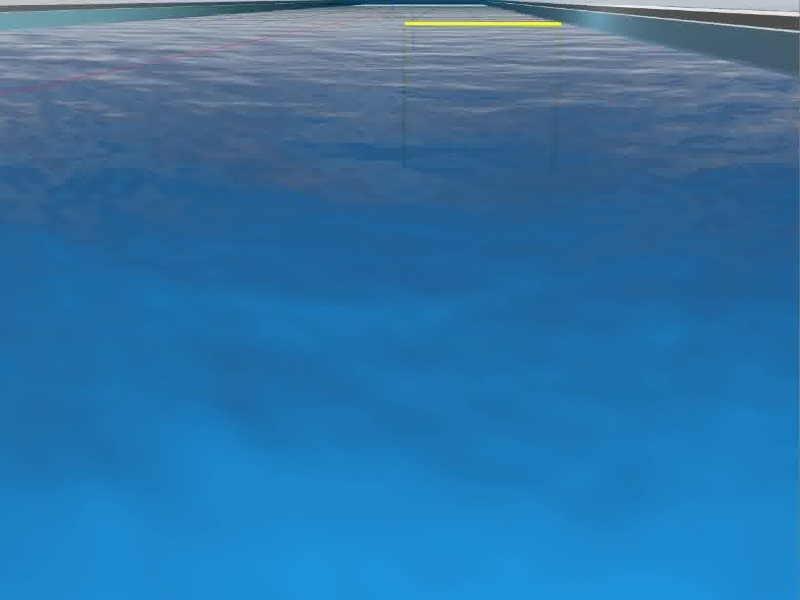gate: (399, 21, 562, 170)
